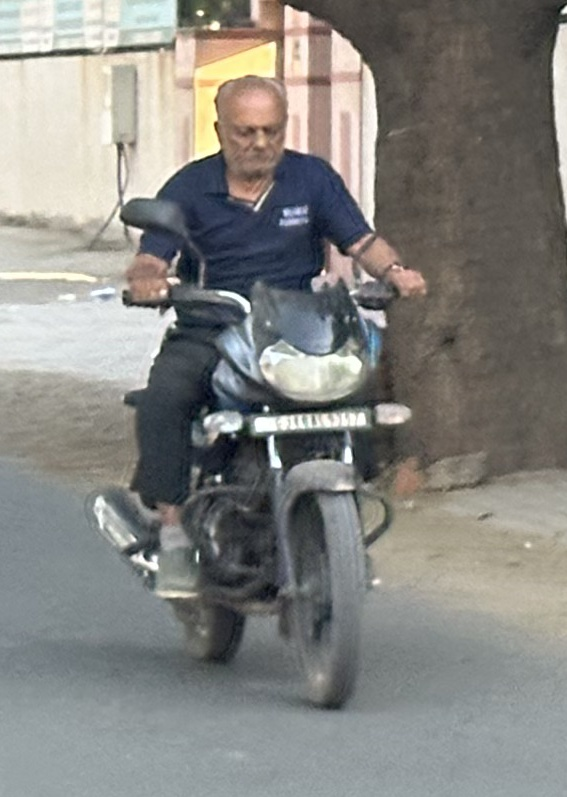BikeWithRider: (72, 64, 438, 718)
NoHelmet: (199, 67, 302, 178)
